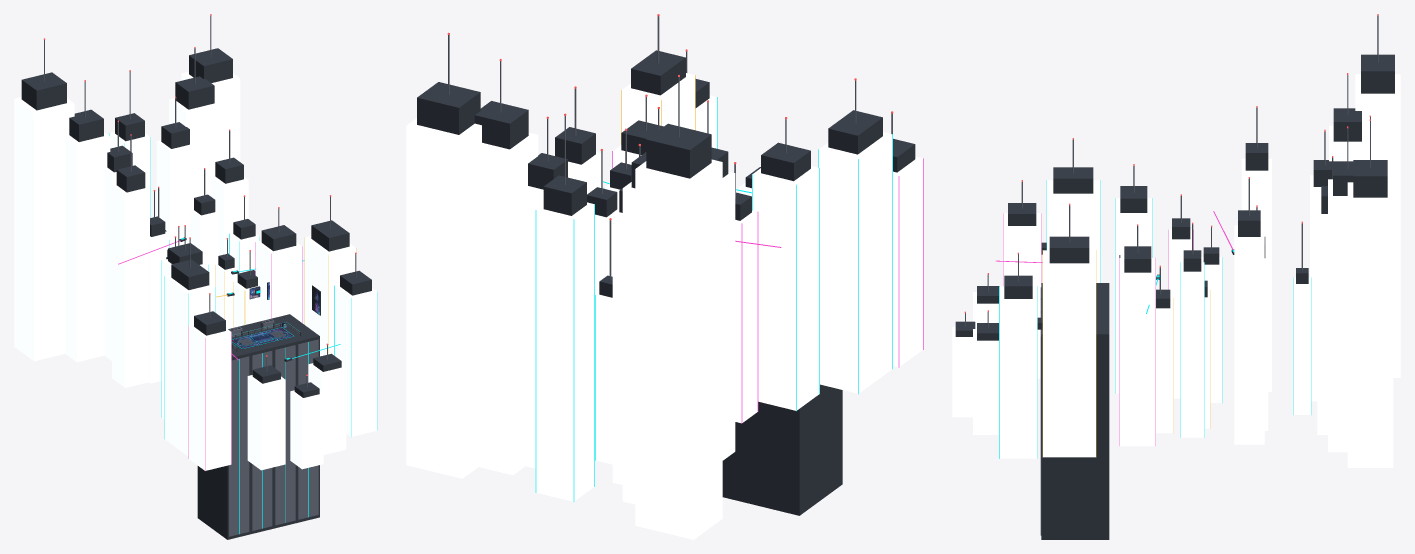
File: KeyFury_3D_CyberRooftop_True3D.glb
The picture shows the model from 3 angles, left to right: view 1: azimuth 30°, elevation 25°; view 2: azimuth 150°, elevation 25°; view 3: azimuth 270°, elevation 25°; orthographic projection. The views are drawn at different scales.
Visible parts, largest first — view 1: Tower_Horizon_L3, Tower_Horizon_L2, Tower_Deep_Left_1, Tower_Beside_Left_Forward, Tower_Beside_Right_Forward, Rooftop_Skyscraper_Tower, Tower_Beside_Left_1, Tower_Horizon_R1, Tower_Front_Left, Skyscraper_Panel_-12.0, Tower_Beside_Right_1, Tower_CyberArcade (+32 smaller); view 2: Tower_Horizon_L3, Tower_Horizon_R3, Tower_Beside_Left_1, Tower_Horizon_Center, Tower_Horizon_R2, Tower_NeoKyoto, Rooftop_Skyscraper_Tower, Tower_Beside_Left_Forward, Tower_Left_Mid_1, Tower_Horizon_L2, Tower_Deep_Left_1, Tower_Horizon_R1 (+17 smaller); view 3: Tower_Horizon_R3, Tower_Beside_Right_1, Rooftop_Skyscraper_Tower, Tower_CyberArcade, Tower_Deep_Right_2, Tower_Beside_Right_Forward, Tower_Horizon_R2, Tower_Horizon_L3, Tower_Right_Mid_2, Tower_Beside_Left_1, Tower_Beside_Left_Forward, Tower_Front_Right (+25 smaller).
Boxes of the visible parts, x1,y1,x2,y2 form: Tower_Horizon_L3: (14,97,74,361); Tower_Horizon_L2: (65,132,110,362); Tower_Deep_Left_1: (112,183,149,387); Tower_Beside_Left_Forward: (188,324,231,470); Tower_Beside_Right_Forward: (334,284,377,436); Rooftop_Skyscraper_Tower: (197,314,319,539); Tower_Beside_Left_1: (165,274,215,455); Tower_Horizon_R1: (156,140,194,247); Tower_Front_Left: (247,375,285,470); Skyscraper_Panel_-12.0: (229,356,249,536); Tower_Beside_Right_1: (305,236,355,356); Tower_CyberArcade: (255,240,301,322); Tower_Horizon_L3: (635,159,722,539); Tower_Horizon_R3: (406,118,481,478); Tower_Beside_Left_1: (819,132,892,393); Tower_Horizon_Center: (536,202,594,501); Tower_Horizon_R2: (478,132,538,475); Tower_NeoKyoto: (752,166,819,410); Rooftop_Skyscraper_Tower: (722,384,842,515); Tower_Beside_Left_Forward: (893,156,922,367); Tower_Left_Mid_1: (735,210,757,423); Tower_Horizon_L2: (622,182,635,504); Tower_Deep_Left_1: (722,171,735,460); Tower_Horizon_R1: (525,186,543,468); Tower_Horizon_R3: (1347,178,1393,467); Tower_Beside_Right_1: (1043,250,1095,457); Rooftop_Skyscraper_Tower: (1041,283,1109,539); Tower_CyberArcade: (1119,258,1155,446); Tower_Deep_Right_2: (1234,225,1264,444); Tower_Beside_Right_Forward: (999,286,1037,458); Tower_Horizon_R2: (1328,179,1347,452); Tower_Horizon_L3: (1355,74,1400,377); Tower_Right_Mid_2: (1181,262,1204,437); Tower_Beside_Left_1: (1047,180,1099,282); Tower_Beside_Left_Forward: (1003,213,1041,378); Tower_Front_Right: (973,329,998,434).
Size of the model in its own units: 70.25 by 133 by 118.
Materials: 23 (6 with a texture image).
